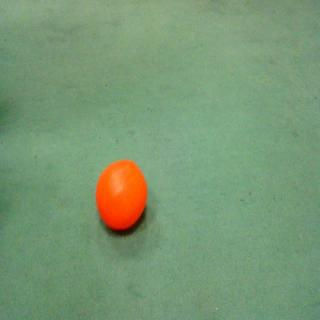orange: (94, 149, 154, 236)
